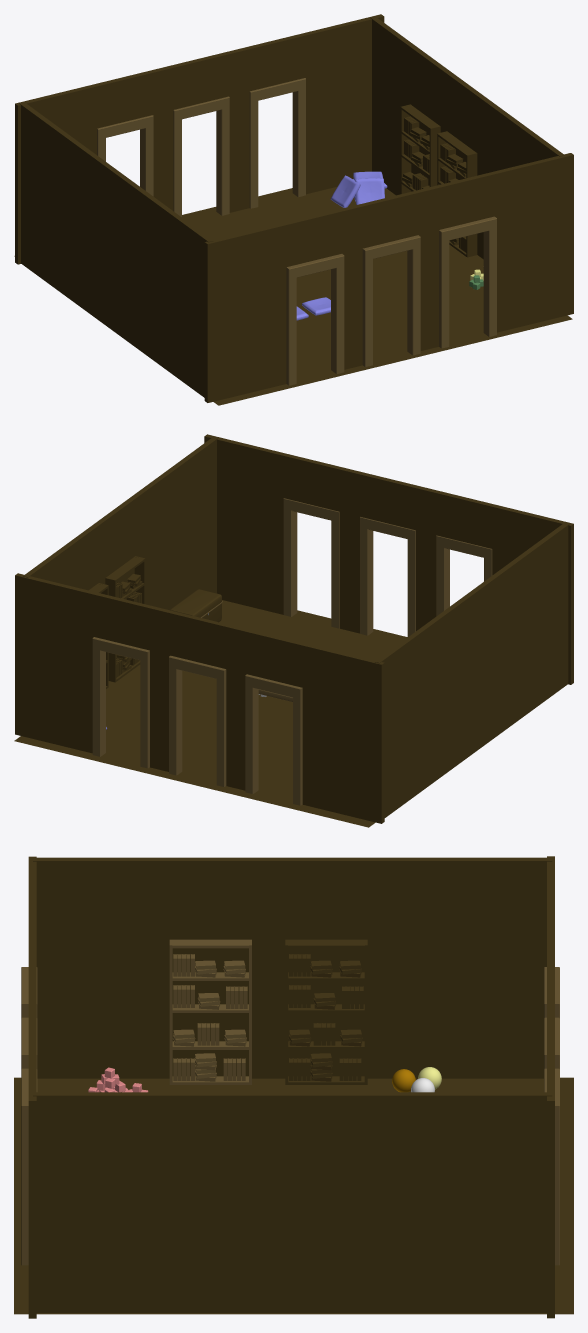
File: playroom.fbx
3 renders of one model, top to bottom at view 1: azimuth 30°, elevation 25°; view 2: azimuth 150°, elevation 25°; view 3: azimuth 270°, elevation 25°, orthographic. The views are drawn at different scales.
Visible parts, largest first — view 1: playroom; view 2: playroom; view 3: playroom.
Boxes of the visible parts, x1,y1,x2,y2 form: playroom: [14, 14, 573, 405]; playroom: [14, 434, 573, 827]; playroom: [14, 856, 573, 1318].
Size of the model in its own units: 724 by 304 by 700.
